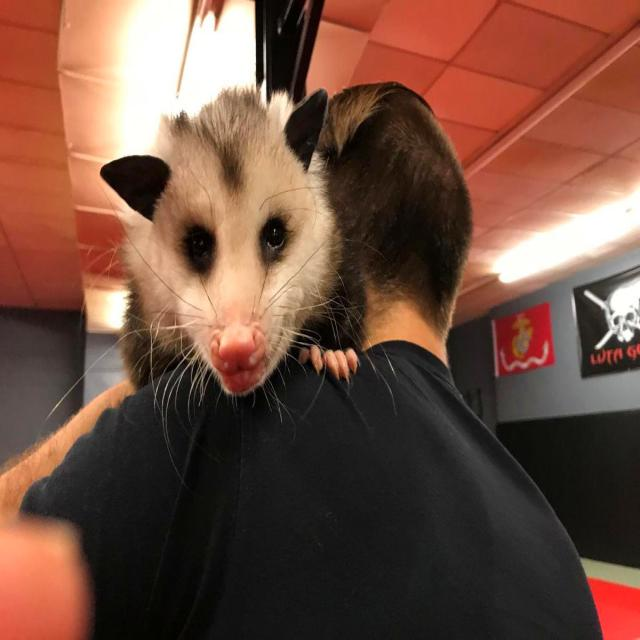possum: (100, 86, 341, 394)
